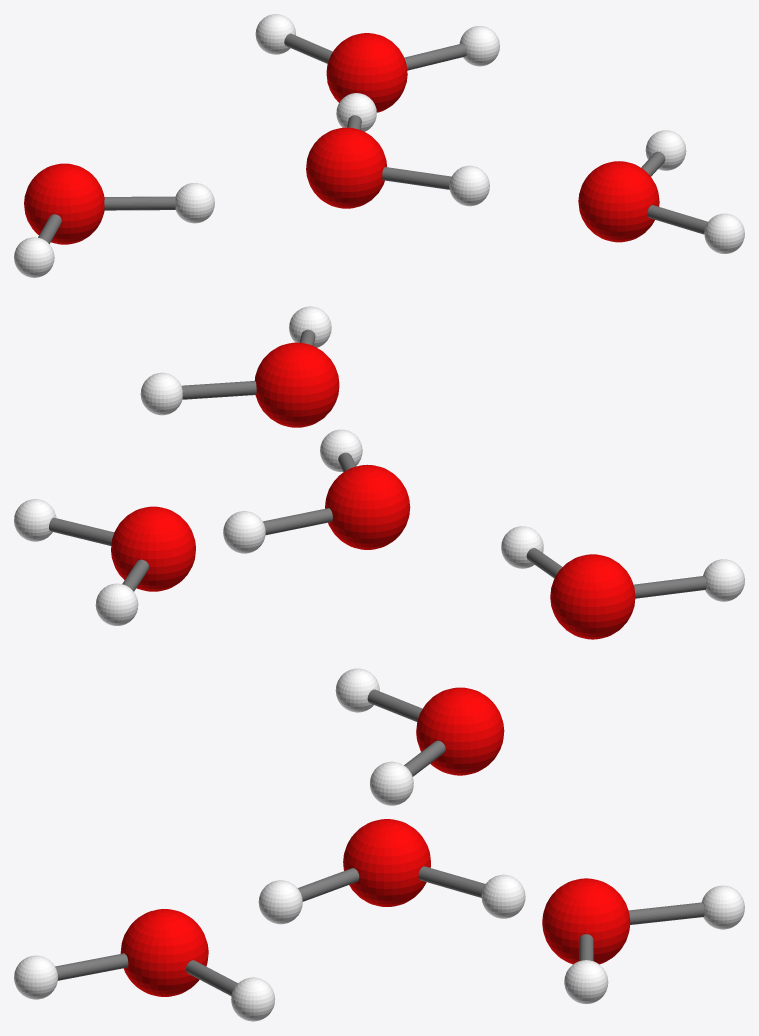
The model's file is Wasser (H₂O).fbx.
3 views of the same model, one above another, from view 1: azimuth 30°, elevation 25°; view 2: azimuth 150°, elevation 25°; view 3: azimuth 270°, elevation 25° (orthographic). The views are drawn at different scales.
Parts seen in each view (by area): view 1: Sphere.009, Sphere.003, Sphere.008, Sphere, Sphere.004, Sphere.010, Sphere.007, Sphere.006, Sphere.001, Sphere.002, Sphere.005, Sphere.011 (+5 smaller); view 2: Sphere.008, Sphere.003, Sphere.009, Sphere, Sphere.005, Sphere.011, Sphere.002, Sphere.007, Sphere.001, Sphere.006, Sphere.010, Sphere.004 (+4 smaller); view 3: Sphere.008, Sphere.009, Sphere.003, Sphere, Sphere.005, Sphere.010, Sphere.011, Sphere.001, Sphere.006, Sphere.004, Sphere.002, Sphere.007 (+7 smaller).
Boxes of the visible parts, <box> form: Sphere.009: <box>306,127,386,208</box>; Sphere.003: <box>578,161,659,242</box>; Sphere.008: <box>24,163,104,244</box>; Sphere: <box>326,33,407,112</box>; Sphere.004: <box>704,213,744,253</box>; Sphere.010: <box>449,165,489,206</box>; Sphere.007: <box>14,237,54,277</box>; Sphere.006: <box>175,183,214,223</box>; Sphere.001: <box>459,26,499,66</box>; Sphere.002: <box>255,14,295,54</box>; Sphere.005: <box>645,130,686,170</box>; Sphere.011: <box>336,93,376,131</box>; Sphere.008: <box>550,554,635,639</box>; Sphere.003: <box>254,342,339,427</box>; Sphere.009: <box>325,464,410,549</box>; Sphere: <box>111,506,195,591</box>; Sphere.005: <box>140,372,182,415</box>; Sphere.011: <box>223,511,265,553</box>; Sphere.002: <box>95,583,138,625</box>; Sphere.007: <box>703,559,744,601</box>; Sphere.001: <box>14,499,56,541</box>; Sphere.006: <box>501,526,543,568</box>; Sphere.010: <box>320,429,362,471</box>; Sphere.004: <box>289,306,331,347</box>; Sphere.008: <box>416,687,504,775</box>; Sphere.009: <box>343,819,430,906</box>; Sphere.003: <box>120,909,208,996</box>; Sphere: <box>542,878,630,964</box>; Sphere.005: <box>231,977,275,1021</box>; Sphere.010: <box>258,880,302,924</box>; Sphere.011: <box>481,874,525,918</box>; Sphere.001: <box>564,960,608,1004</box>; Sphere.006: <box>370,761,413,805</box>; Sphere.004: <box>14,955,57,999</box>; Sphere.002: <box>702,885,744,929</box>; Sphere.007: <box>335,668,379,712</box>.
Size of the model in its own units: 527 by 60 by 497.
